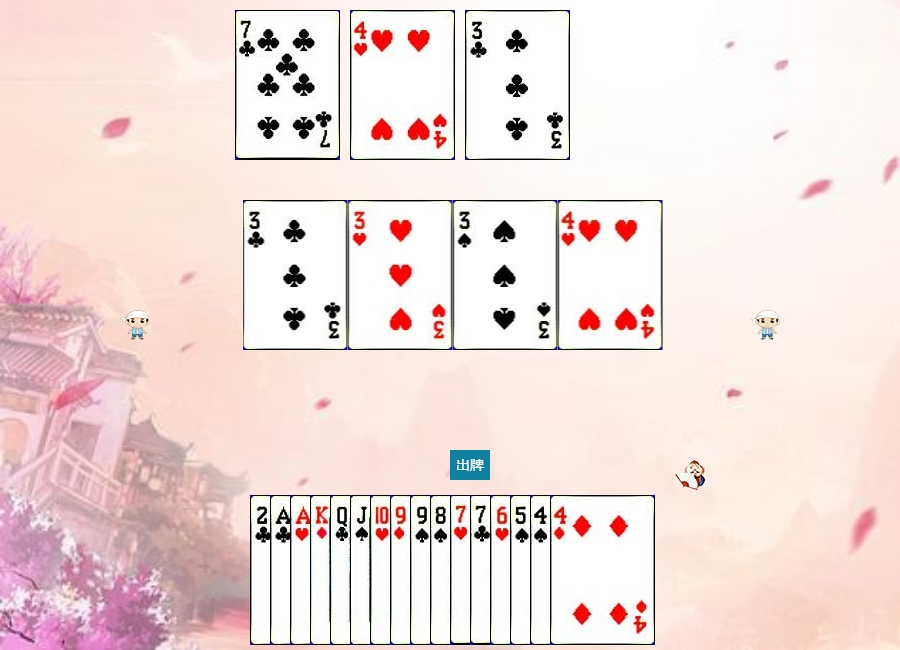10~3: (370, 495, 475, 645)
11~4: (350, 495, 455, 645)
12~2: (330, 495, 435, 645)
13~1: (310, 495, 415, 645)
14~2: (270, 495, 375, 645)
14~3: (290, 495, 395, 645)
15~2: (250, 495, 355, 645)
3~2: (465, 10, 570, 160), (243, 200, 348, 350)
3~3: (348, 200, 453, 350)
3~4: (453, 200, 558, 350)
4~1: (550, 495, 655, 645)
4~3: (350, 10, 455, 160), (558, 200, 663, 350)
4~4: (530, 495, 635, 645)
5~4: (510, 495, 615, 645)
6~3: (490, 495, 595, 645)
7~2: (235, 10, 340, 160), (470, 495, 575, 645)
7~3: (450, 495, 555, 645)
8~4: (430, 495, 535, 645)
9~1: (390, 495, 495, 645)
9~4: (410, 495, 515, 645)
